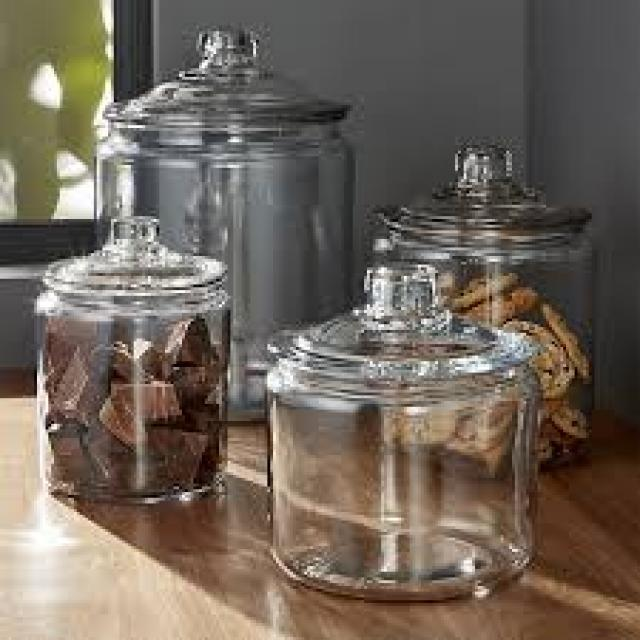organic waste: (495, 322, 569, 392), (40, 344, 91, 421), (532, 307, 583, 378), (88, 398, 151, 449), (74, 424, 125, 481), (105, 444, 174, 486), (82, 344, 131, 398), (466, 398, 520, 447), (111, 376, 173, 418), (174, 401, 216, 461), (46, 418, 88, 478), (444, 270, 512, 307), (398, 401, 458, 441), (464, 284, 532, 318), (162, 313, 216, 353), (156, 430, 202, 472), (171, 356, 219, 392), (526, 409, 566, 444), (546, 396, 586, 430), (117, 338, 159, 370), (40, 324, 82, 350)
